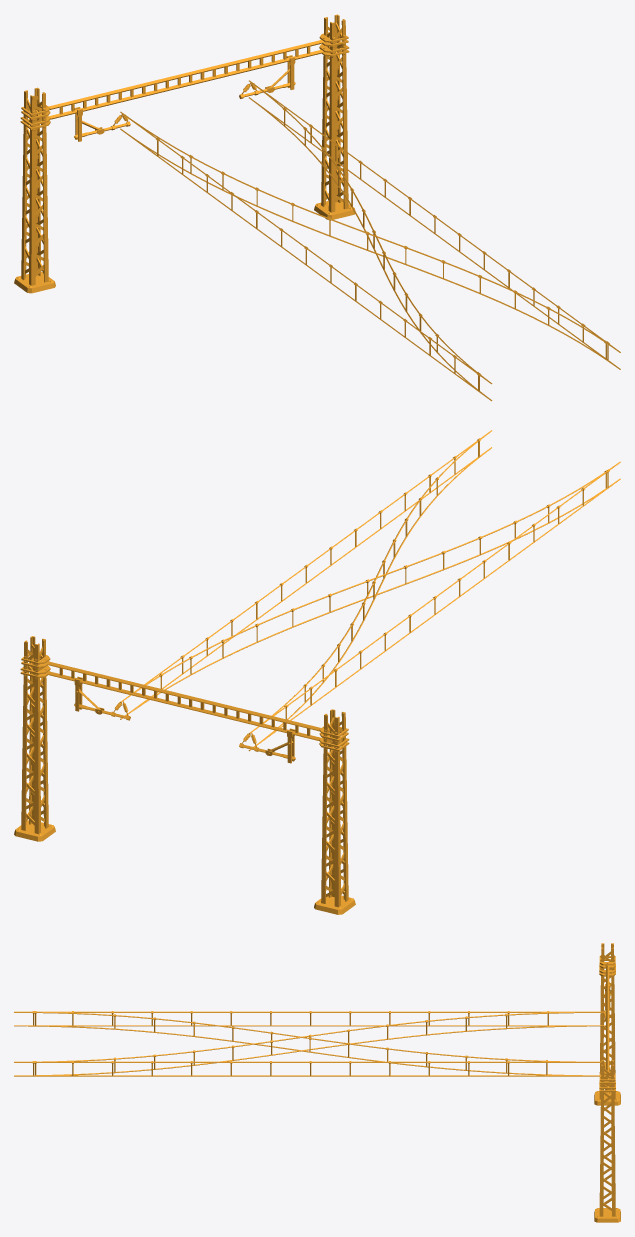
Rendered from SM_Train_Wiring_Switch_Double.fbx.
3 views of the same model, one above another, from view 1: azimuth 30°, elevation 25°; view 2: azimuth 150°, elevation 25°; view 3: azimuth 270°, elevation 25° (orthographic). The views are drawn at different scales.
Parts seen in each view (by area): view 1: SM_Train_Wiring_Switch_Double; view 2: SM_Train_Wiring_Switch_Double; view 3: SM_Train_Wiring_Switch_Double.
Boxes of the visible parts, x1,y1,x2,y2 form: SM_Train_Wiring_Switch_Double: (14, 14, 620, 401); SM_Train_Wiring_Switch_Double: (14, 430, 620, 914); SM_Train_Wiring_Switch_Double: (14, 943, 620, 1222).
Bounding box in the file's own units: 15.34 × 8.58 × 30.67.
